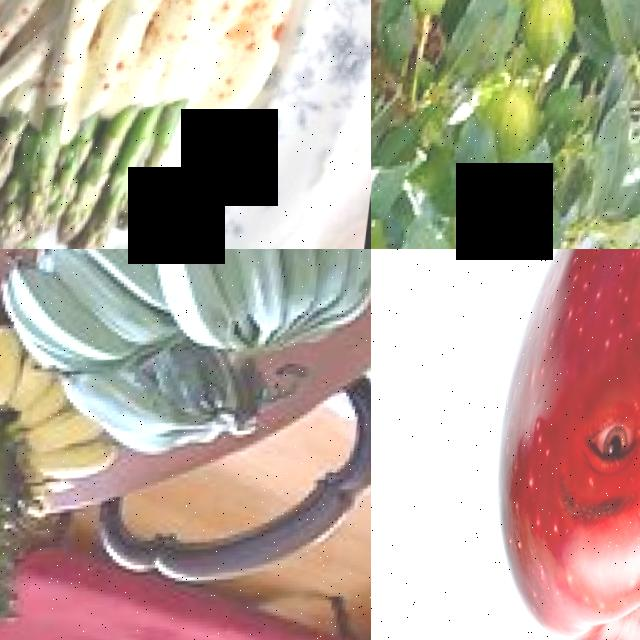apple: (470, 249, 640, 640)
asparagus: (0, 123, 158, 249)
banana: (0, 262, 138, 376), (134, 249, 247, 365), (62, 367, 195, 454), (215, 249, 307, 346), (247, 249, 337, 327), (284, 249, 360, 313), (24, 450, 126, 495), (333, 249, 371, 332), (0, 324, 28, 419), (35, 419, 105, 452), (16, 367, 47, 421), (28, 401, 70, 425)
